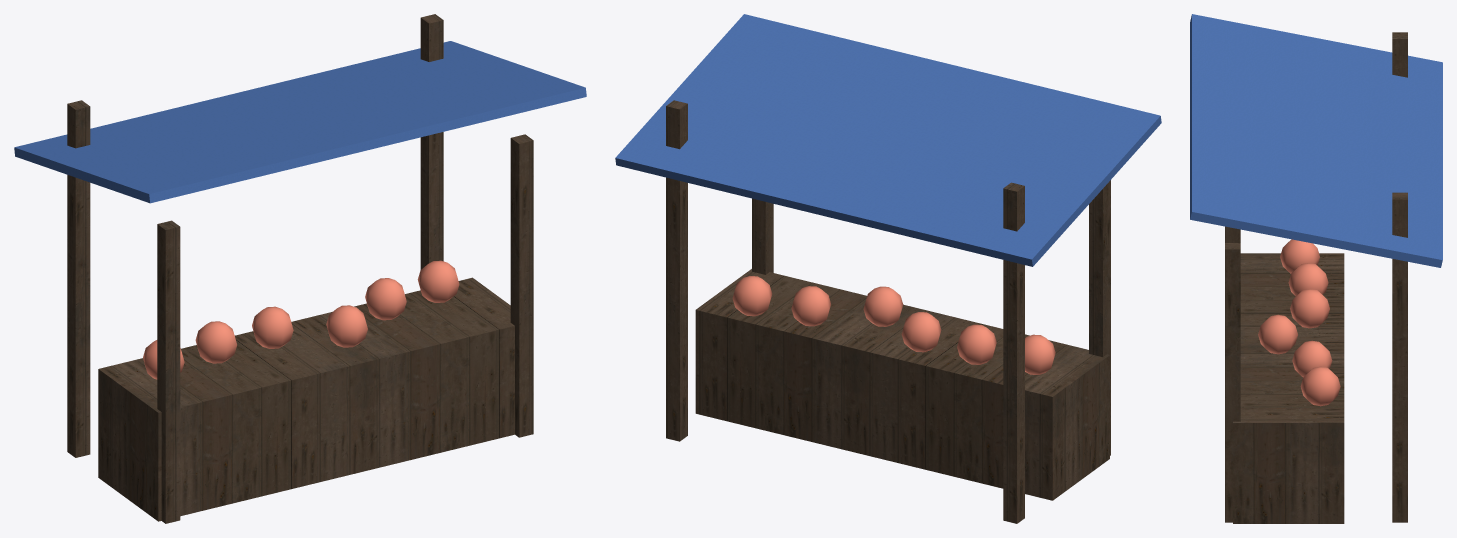
Rendered from market_stall_2.glb.
3 renders of one model, left to right at view 1: azimuth 30°, elevation 25°; view 2: azimuth 150°, elevation 25°; view 3: azimuth 270°, elevation 25°, orthographic. The views are drawn at different scales.
Parts seen in each view (by area): view 1: market_stall_2; view 2: market_stall_2; view 3: market_stall_2.
Part boxes in pixels (x1,y1,x2,y2): market_stall_2: [14, 14, 586, 523]; market_stall_2: [615, 14, 1161, 523]; market_stall_2: [1190, 14, 1442, 523].
Bounding box in the file's own units: 4.2 × 3.23 × 2.27.
Materials: 3 (2 with a texture image).
